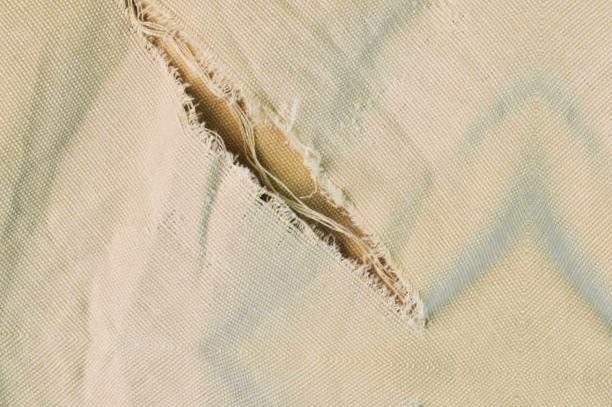hole: (118, 0, 451, 333)
